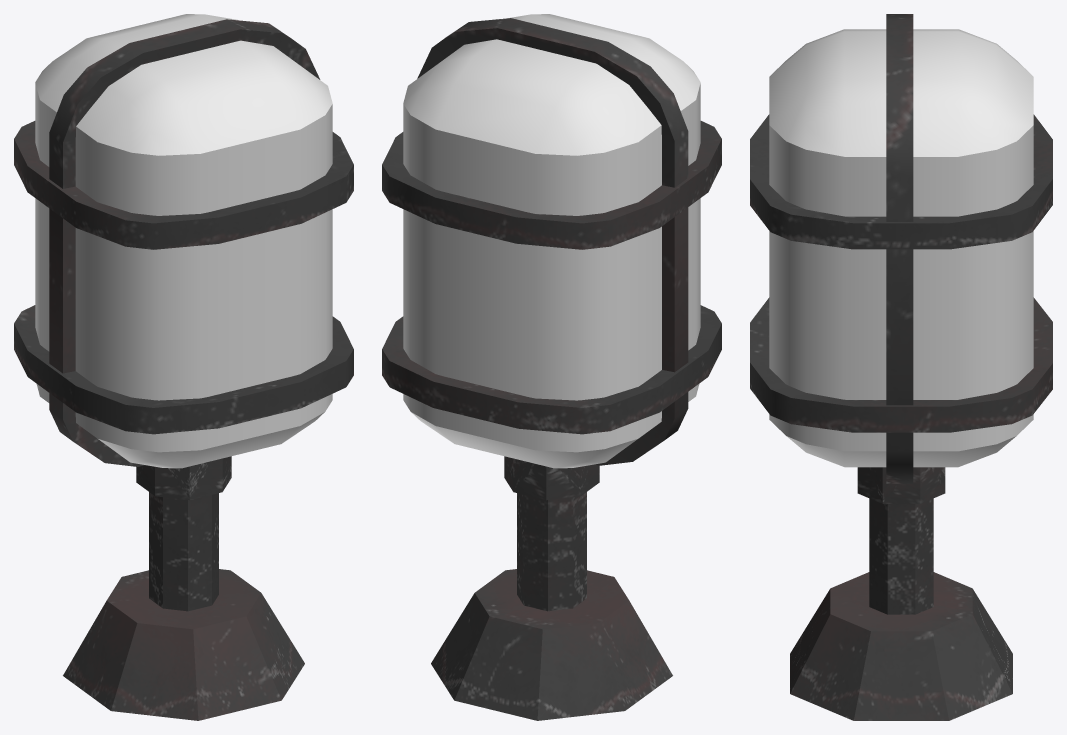
Rendered from WarnLight.fbx.
The picture shows the model from 3 angles, left to right: view 1: azimuth 30°, elevation 25°; view 2: azimuth 150°, elevation 25°; view 3: azimuth 270°, elevation 25°; orthographic projection.
Visible parts, largest first — view 1: WarningLight; view 2: WarningLight; view 3: WarningLight.
Part boxes in pixels (<box>): WarningLight: <box>14,14,353,720</box>; WarningLight: <box>382,14,721,720</box>; WarningLight: <box>750,14,1052,720</box>.
Bounding box in the file's own units: 27.33 × 62.71 × 27.33.
